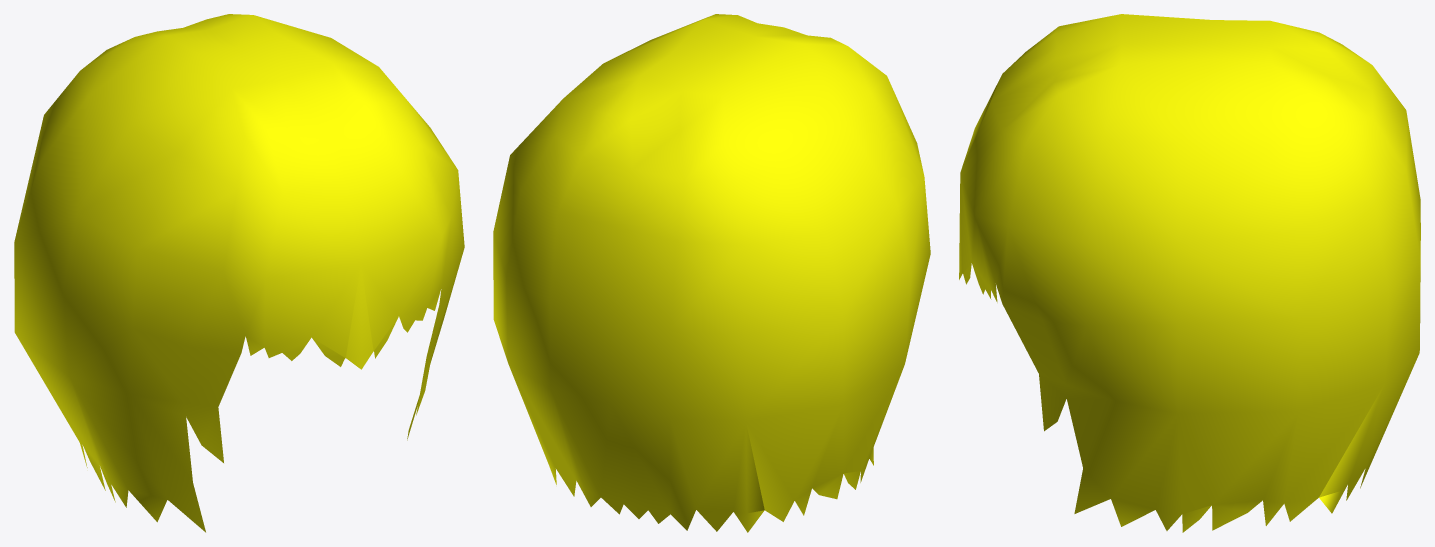
The model's file is hair_newarmin.glb.
3 renders of one model, left to right at view 1: azimuth 30°, elevation 25°; view 2: azimuth 150°, elevation 25°; view 3: azimuth 270°, elevation 25°, orthographic. The views are drawn at different scales.
Parts seen in each view (by area): view 1: NewArminhair.001; view 2: NewArminhair.001; view 3: NewArminhair.001.
Boxes of the visible parts, x1,y1,x2,y2 form: NewArminhair.001: (14,14,464,532); NewArminhair.001: (493,14,930,532); NewArminhair.001: (959,14,1420,532).
Bounding box in the file's own units: 0.6233 × 0.6505 × 0.6394.
Materials: 1 (1 with a texture image).
